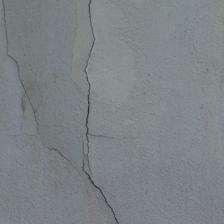Crack: (0, 139, 131, 200), (9, 7, 69, 93), (51, 101, 126, 120)
